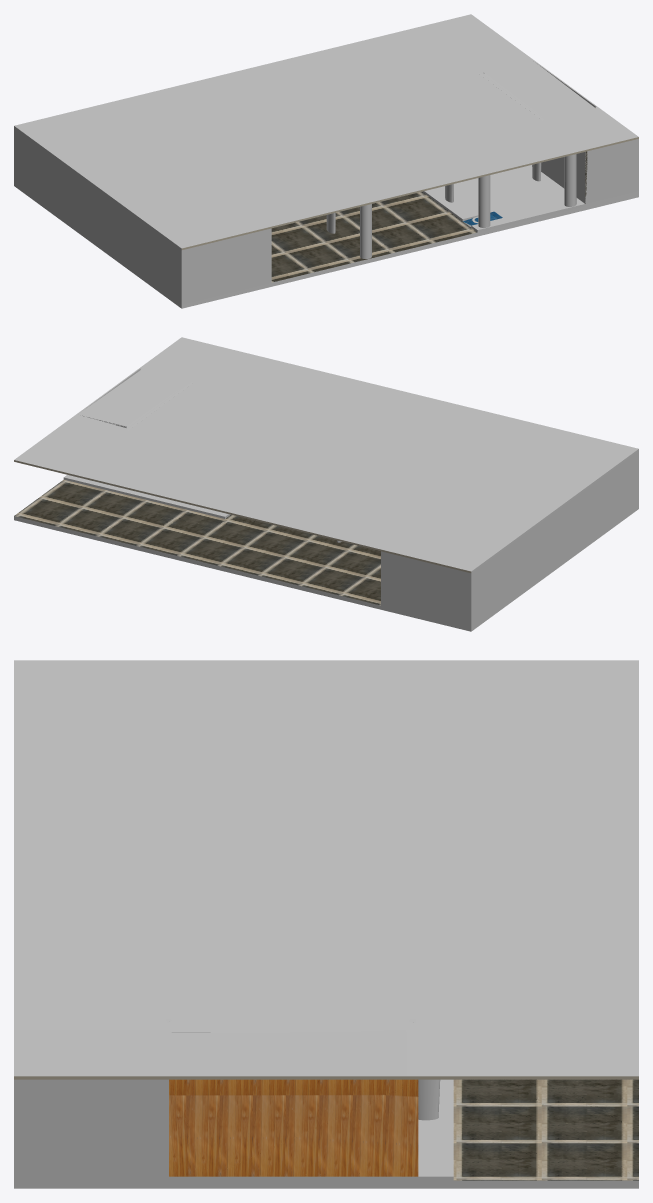
The model's file is SotanoFI.obj.
The picture shows the model from 3 angles, top to bottom: view 1: azimuth 30°, elevation 25°; view 2: azimuth 150°, elevation 25°; view 3: azimuth 270°, elevation 25°; orthographic projection. The views are drawn at different scales.
Visible parts, largest first — view 1: Cubo, Cubo.002, Cubo.004, Cubo.003; view 2: Cubo; view 3: Cubo, Cilindro.002.
Boxes of the visible parts, x1,y1,x2,y2 form: Cubo: (14,14,638,308); Cubo.002: (564,154,576,206); Cubo.004: (478,175,490,227); Cubo.003: (360,204,371,258); Cubo: (14,337,638,631); Cubo: (14,660,638,1188); Cilindro.002: (409,1019,440,1120).
Bounding box in the file's own units: 42.5 × 5.35 × 27.
